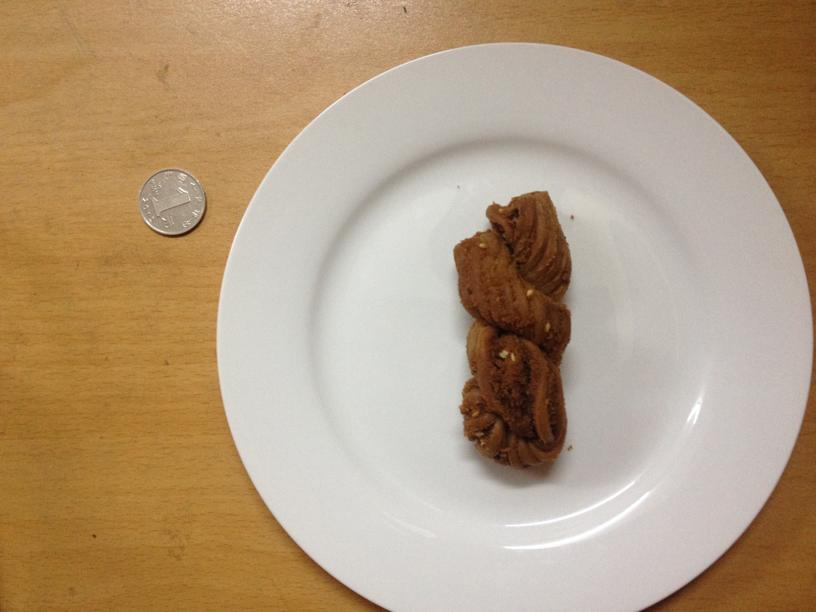coin: (138, 165, 205, 237)
fired_dough_twist: (454, 195, 573, 467)
